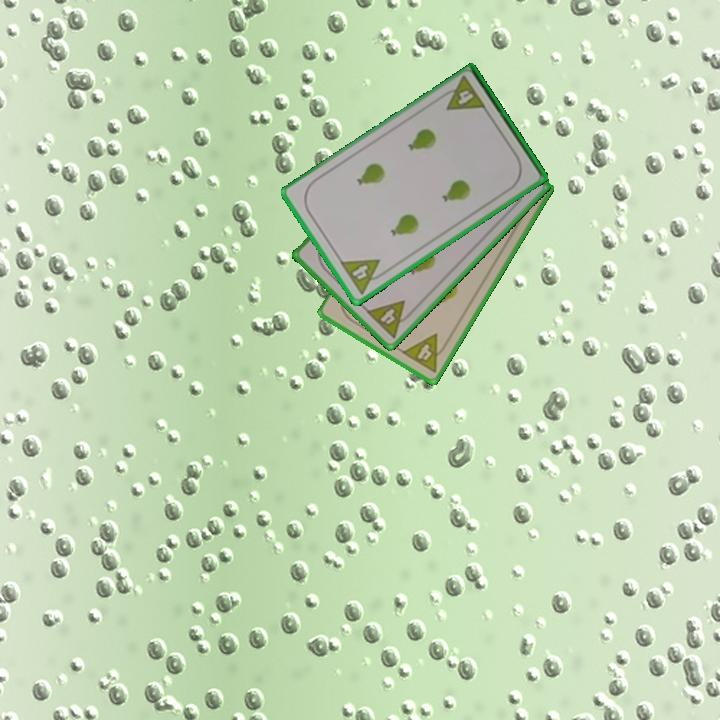4p: (398, 330, 452, 376), (363, 297, 417, 341), (337, 255, 390, 297), (436, 73, 489, 114)
